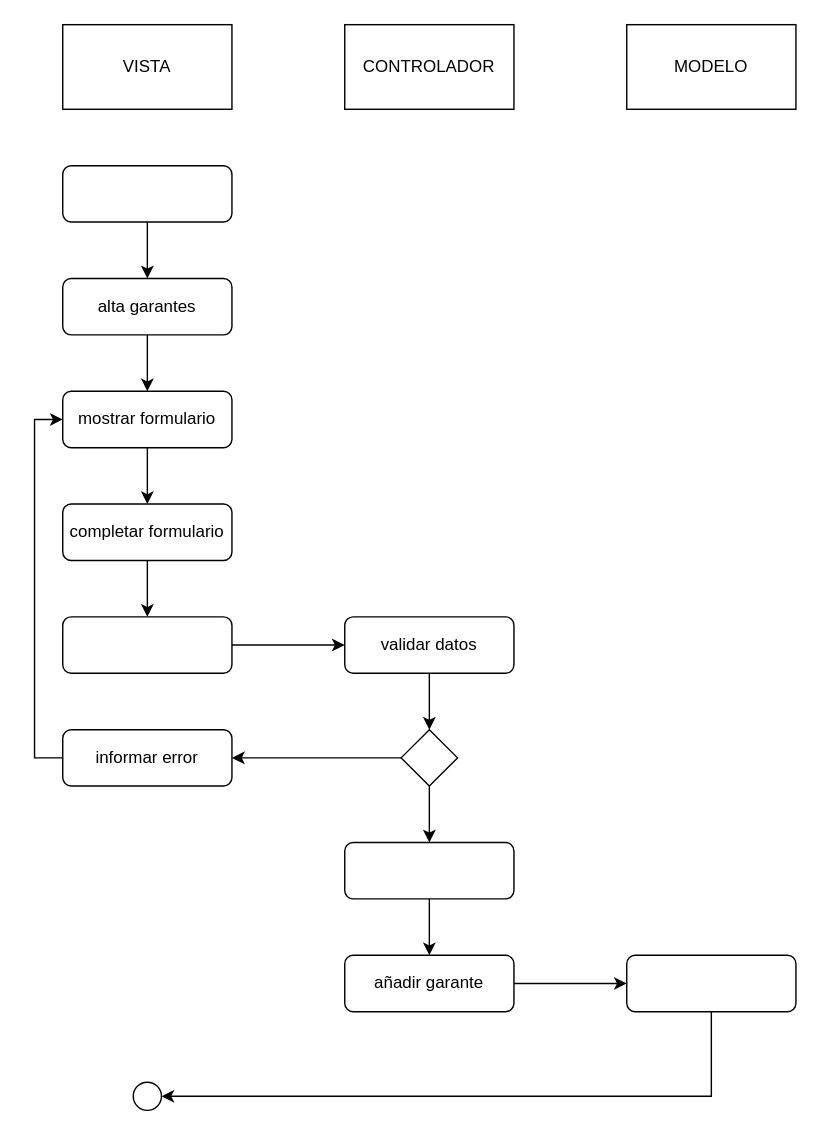
Some shapes in this 821 by 1135 pixel diagram are drawn without their labels. Here are the shapes that lost their labels. From the top down, the centre of each, then its label:
At (x=146, y=193): "vista garantes".
At (x=146, y=644): "confirmar formulario".
At (x=428, y=870): "crear garante".
At (x=710, y=983): "modificar tabla garantes".
